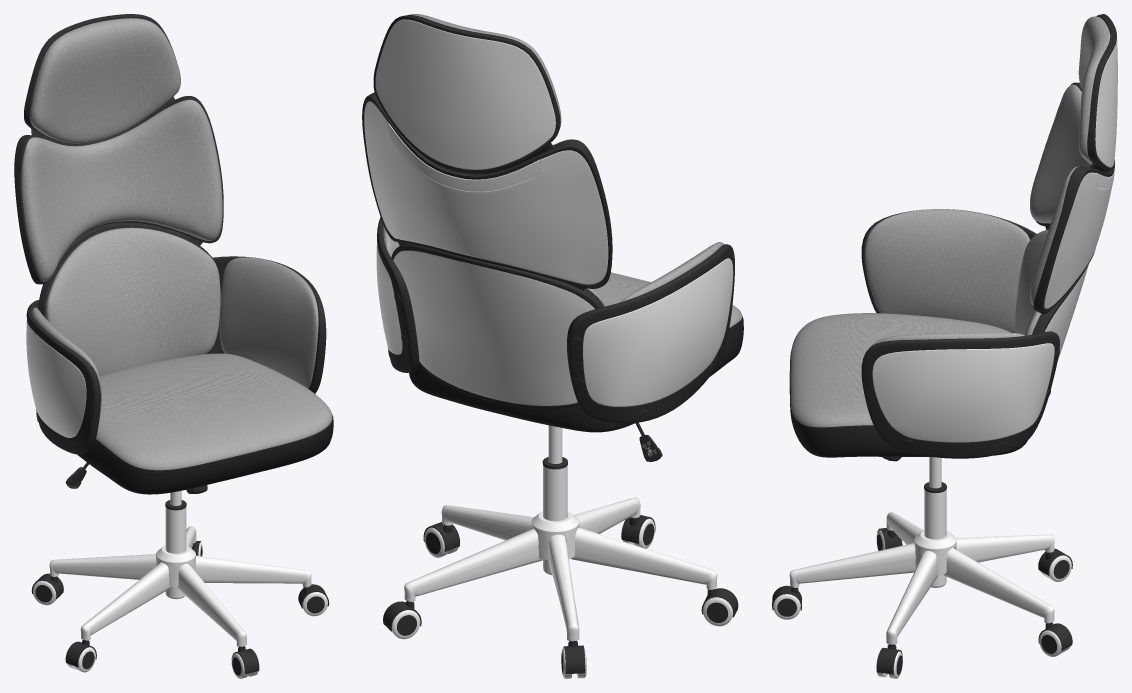
3 views of the same model, side by side, from view 1: azimuth 30°, elevation 25°; view 2: azimuth 150°, elevation 25°; view 3: azimuth 270°, elevation 25° (orthographic). The views are drawn at different scales.
Visible parts, largest first — view 1: White_Fabric, Black_Plastic, Metal, Black_Fabric, White_Plastic; view 2: White_Plastic, Black_Plastic, Metal, Black_Fabric, White_Fabric; view 3: White_Fabric, White_Plastic, Black_Plastic, Metal, Black_Fabric.
Part boxes in pixels (left/top/right/bottom): White_Fabric: left=21, top=18, right=332, bottom=470; Black_Plastic: left=14, top=14, right=329, bottom=675; Metal: left=49, top=490, right=311, bottom=646; Black_Fabric: left=77, top=414, right=333, bottom=494; White_Plastic: left=26, top=108, right=327, bottom=678; White_Plastic: left=364, top=19, right=733, bottom=678; Black_Plastic: left=362, top=15, right=738, bottom=674; Metal: left=404, top=425, right=717, bottom=641; Black_Fabric: left=409, top=316, right=743, bottom=432; White_Fabric: left=383, top=14, right=742, bottom=327; White_Fabric: left=790, top=16, right=1110, bottom=427; White_Plastic: left=773, top=40, right=1117, bottom=678; Black_Plastic: left=772, top=14, right=1116, bottom=675; Metal: left=789, top=457, right=1054, bottom=644; Black_Fabric: left=789, top=349, right=1027, bottom=457.
Bounding box in the file's own units: 0.64 × 1.28 × 0.69.
6 materials, 3 textured.
